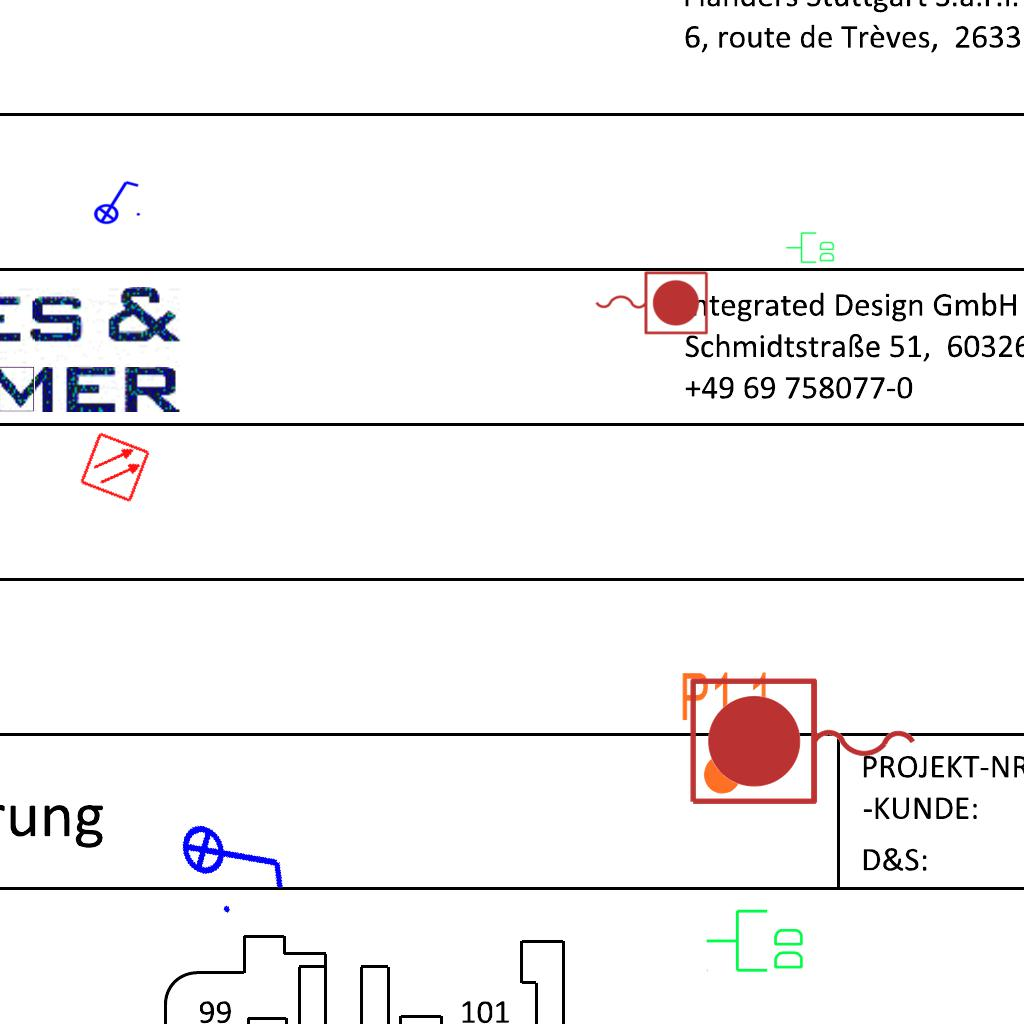Ausschalter_beleuchtet: (168, 786, 300, 926), (87, 177, 143, 225)
Datenanschluss_zweifach: (704, 907, 807, 976), (785, 231, 836, 265)
Downlight_LED_Einbauleuchten_Flur: (679, 669, 772, 797)
RMO_Rauchmelder_optischer: (78, 430, 152, 504)
Zugtaster: (682, 671, 926, 815), (590, 266, 712, 338)
